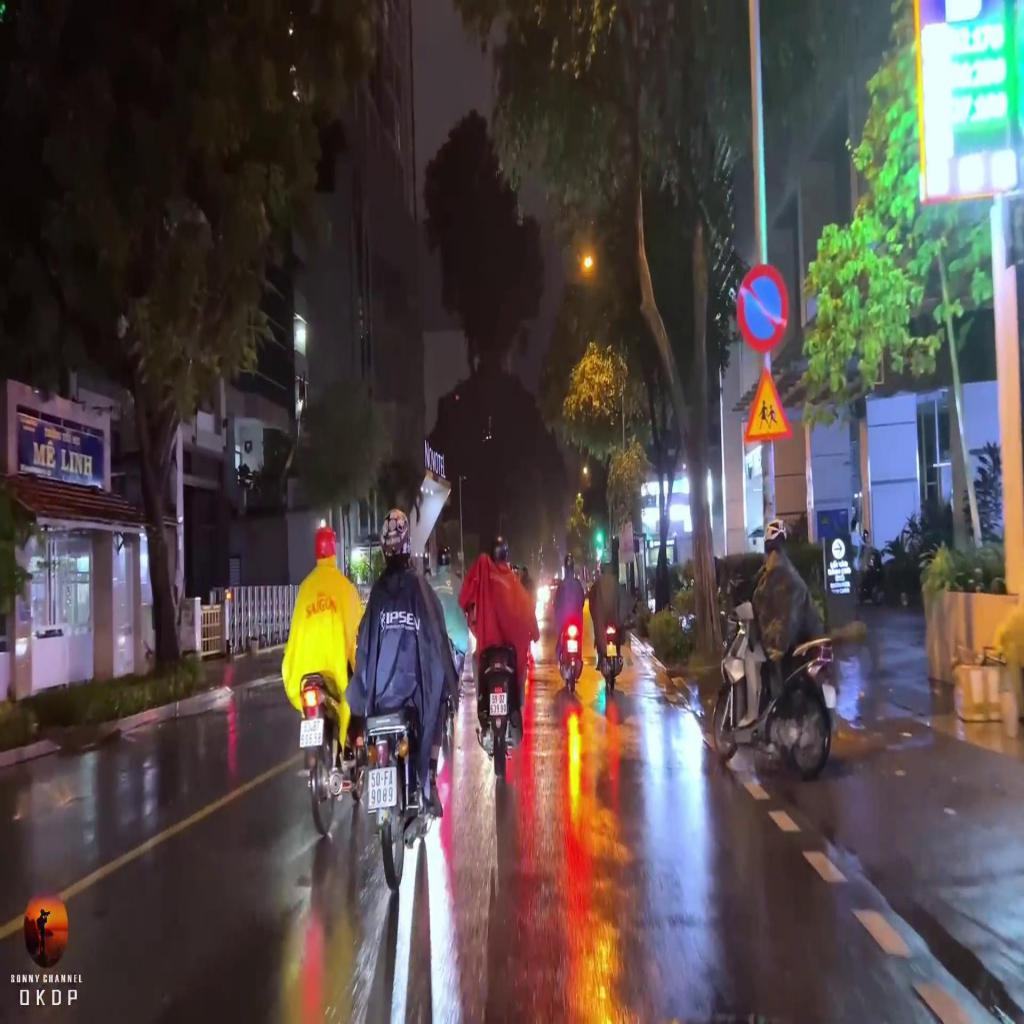cam_do_xe: (735, 260, 790, 356)
chu_y_tre_em: (741, 360, 796, 448)
